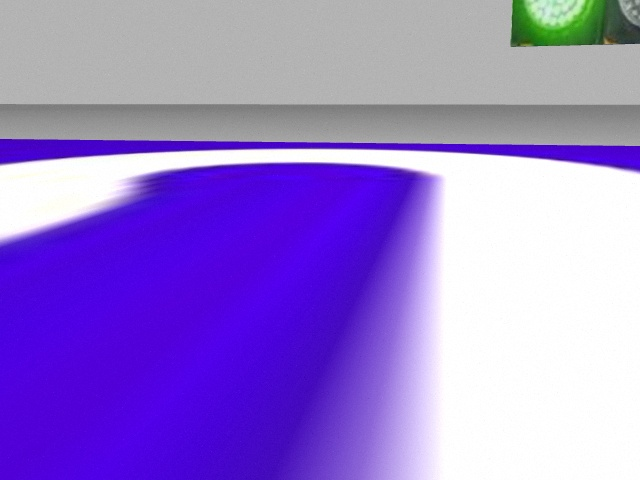green: (513, 1, 606, 45)
